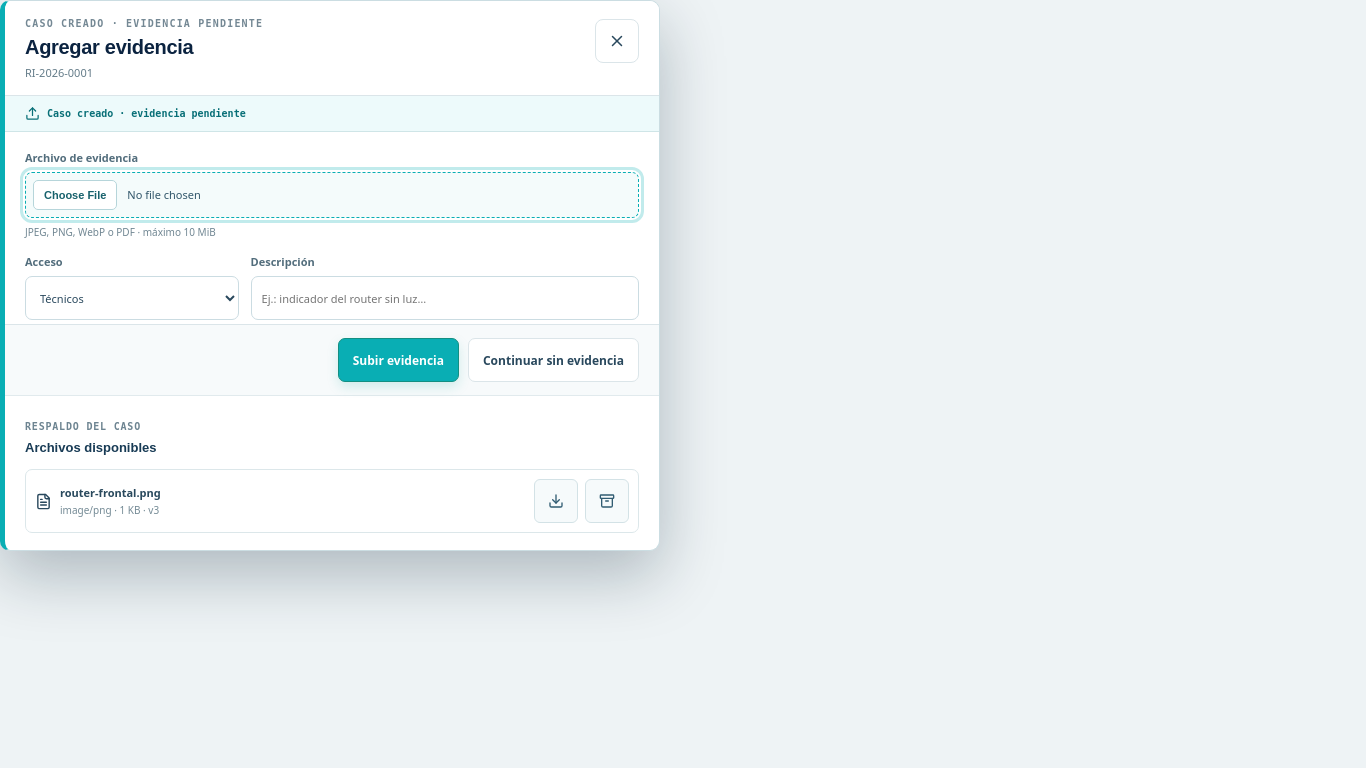
Test: RecurrenceEvidencePanel › downloads visible evidence and archives it with a trimmed reason
Click the button named "Descargar router-frontal.png": x=556, y=501 [534, 479, 578, 523]
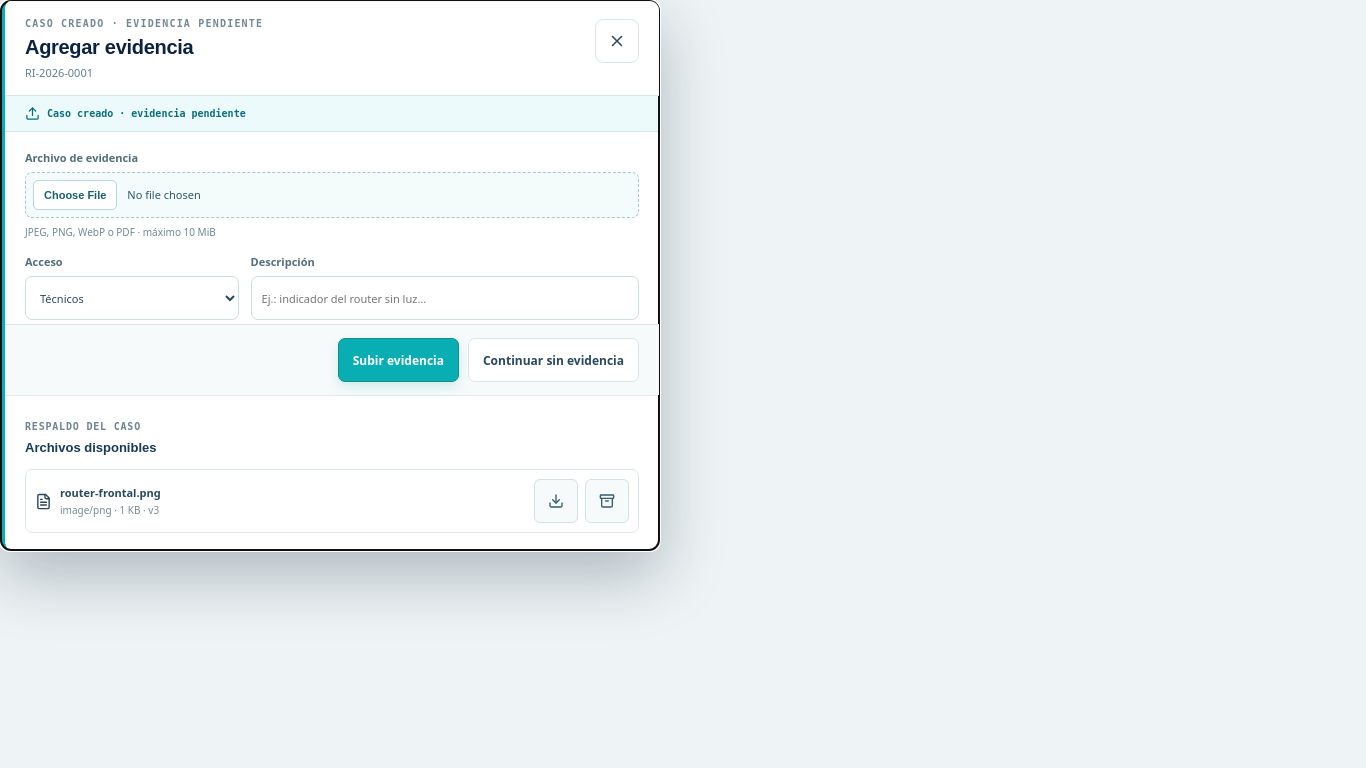
Click the button named "Archivar router-frontal.png": x=607, y=501 [585, 479, 629, 523]
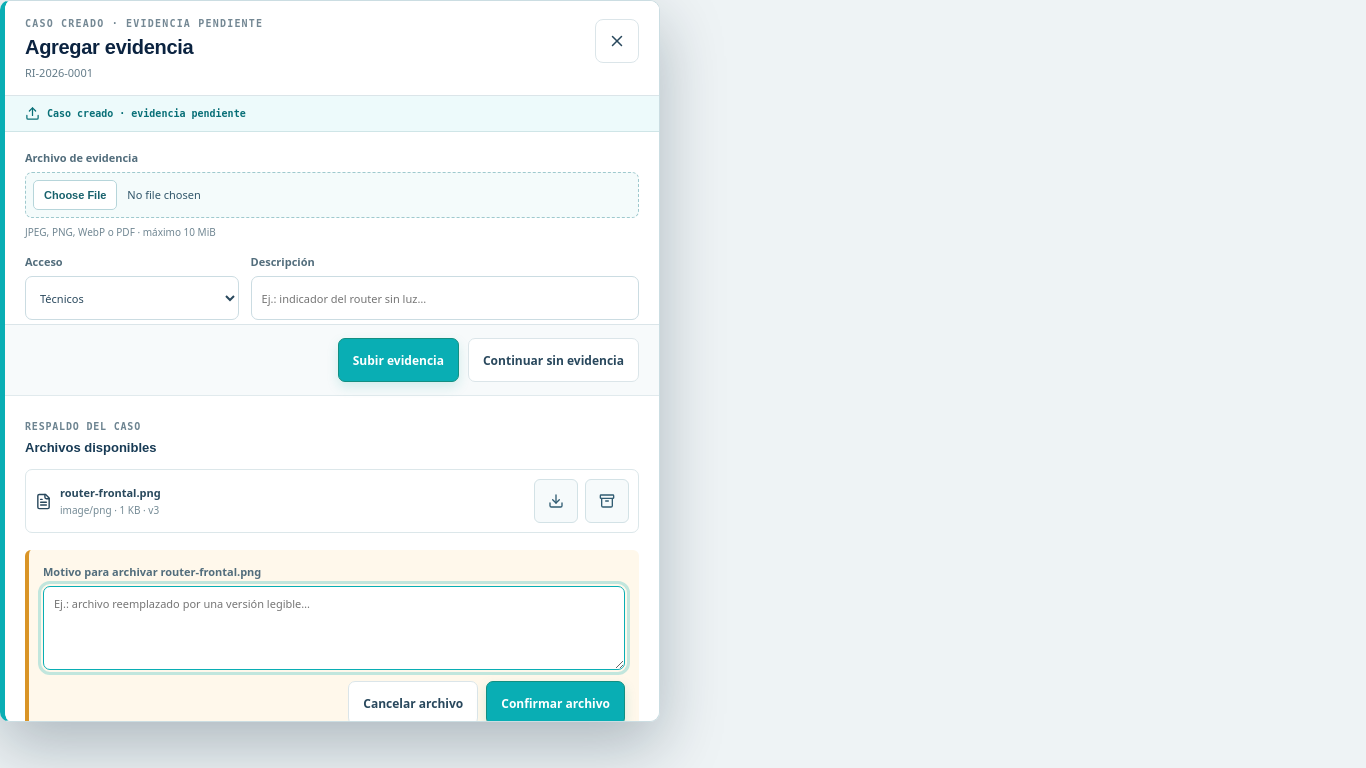
Click the button "Confirmar archivo": x=556, y=703 [486, 681, 625, 725]
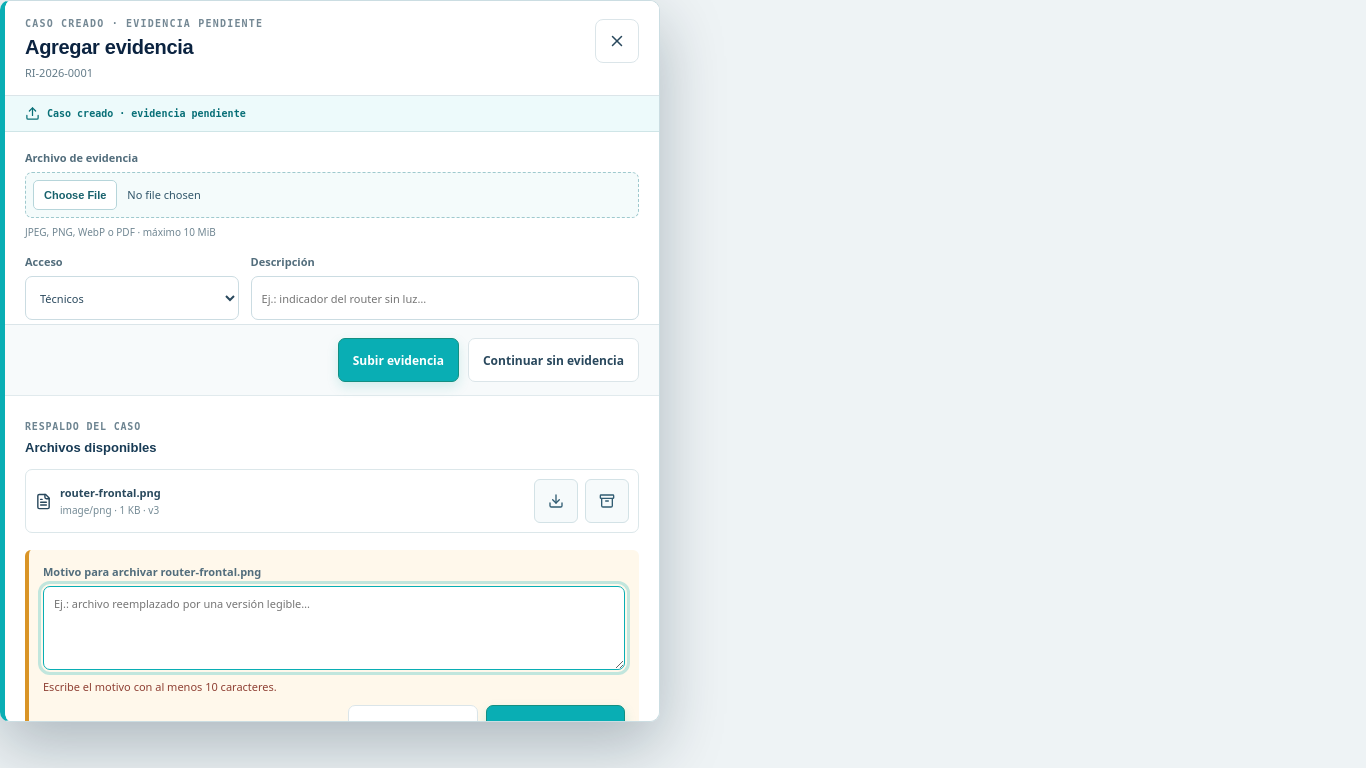
Expected: the message "Escribe el motivo con al menos 10 caracteres." is shown, [43, 679, 277, 694]
In the text box labelled "Motivo para archivar router-frontal.png": x=334, y=628 [43, 586, 625, 670], type "  Documento reemplazado  "
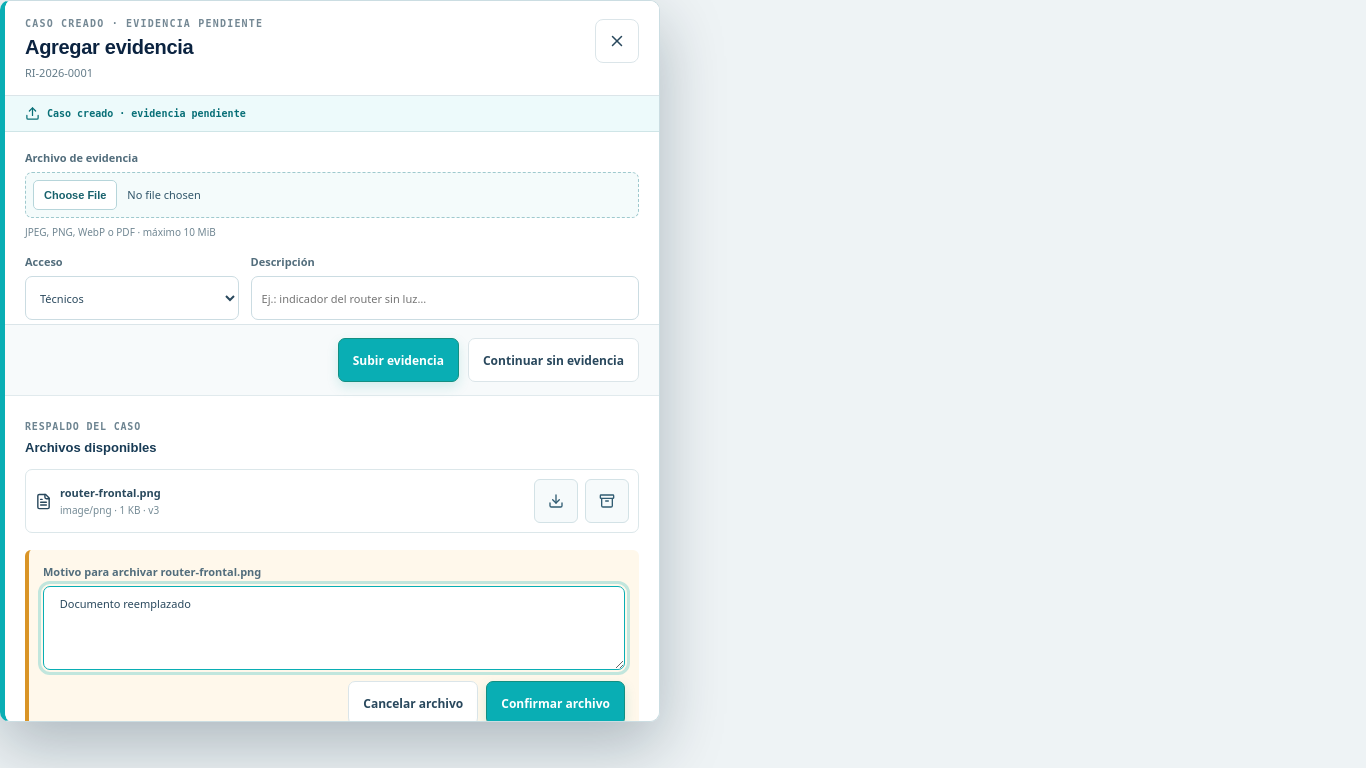
Click the button "Confirmar archivo": x=556, y=703 [486, 681, 625, 725]
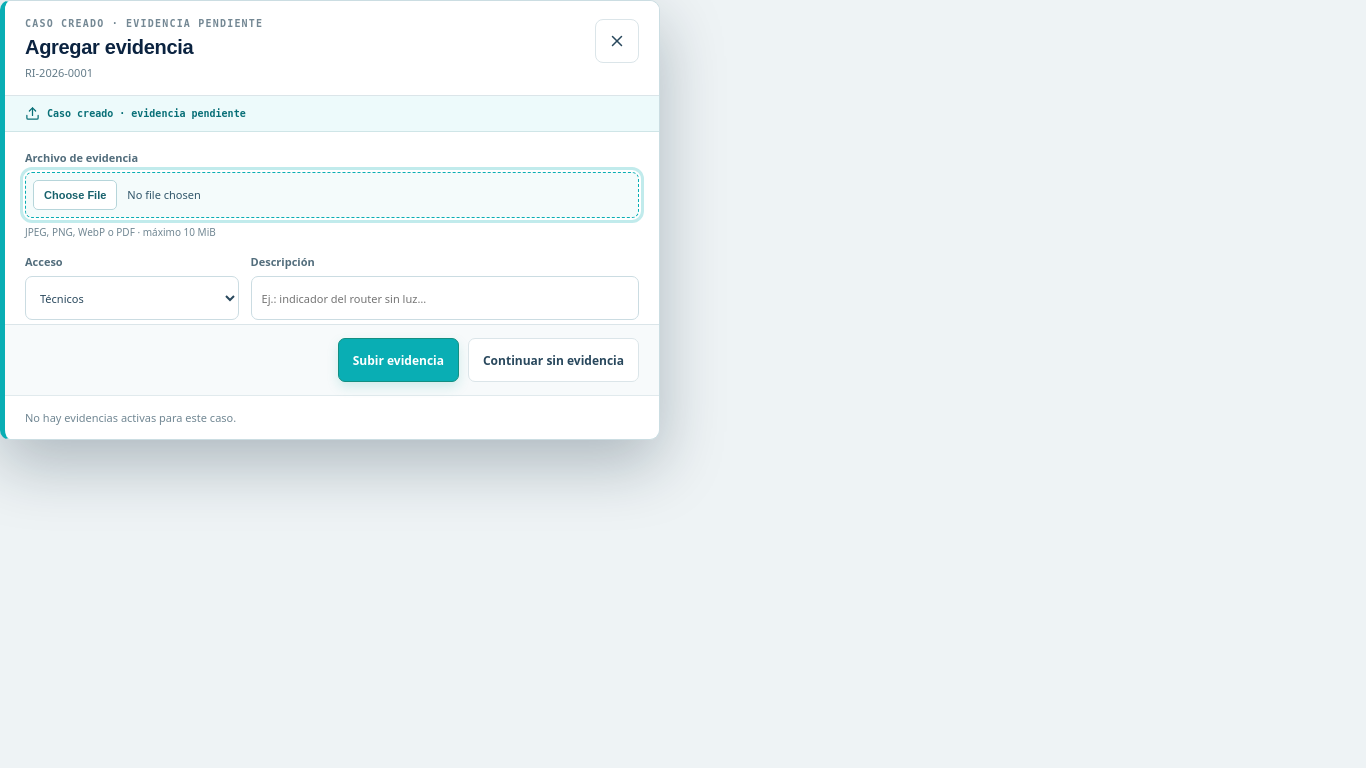
Expected: the text labelled "Motivo para archivar router-frontal.png" is gone
Expected: the message named "Sin evidencias activas" is shown, [5, 395, 659, 439]
